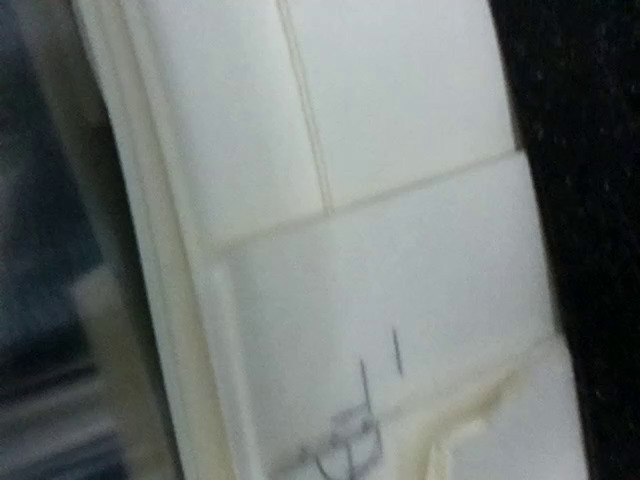misaligned: (256, 384, 416, 480)
